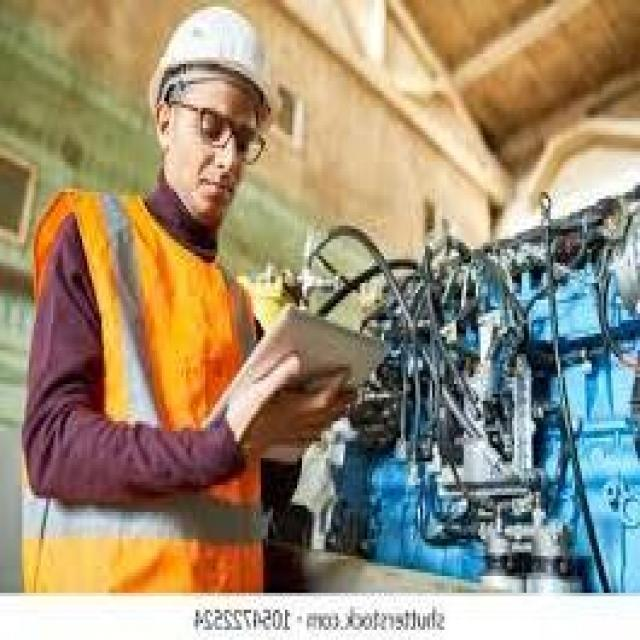reflective_jacket: (16, 178, 273, 599)
safety_helmet: (140, 0, 289, 131)
